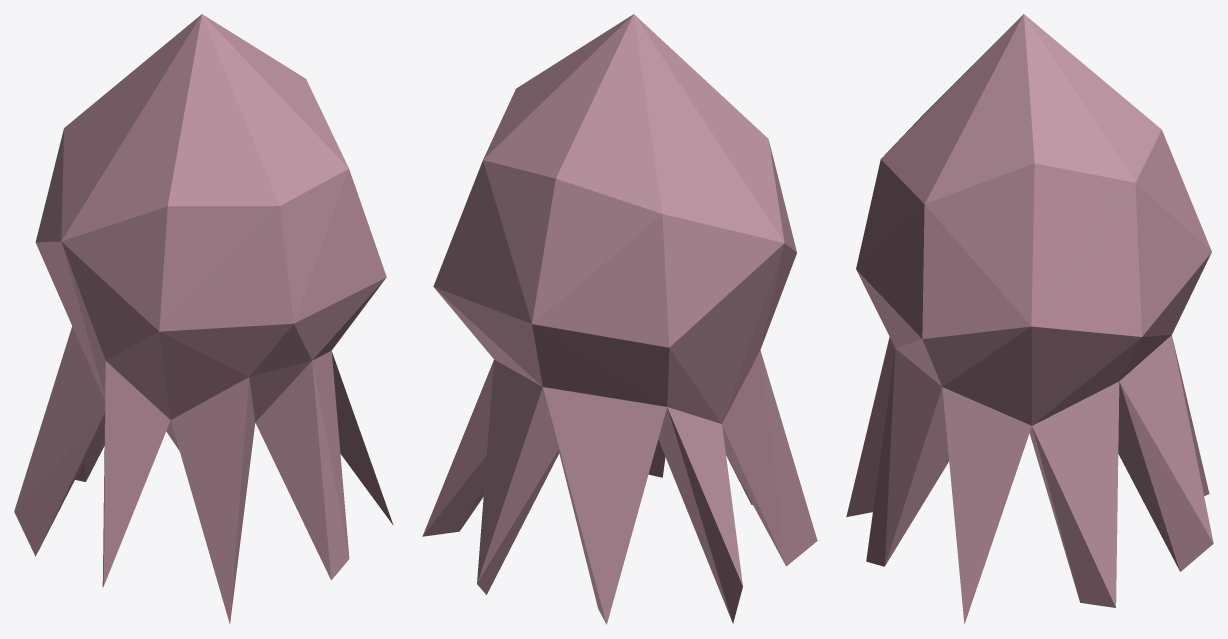
3 renders of one model, left to right at view 1: azimuth 30°, elevation 25°; view 2: azimuth 150°, elevation 25°; view 3: azimuth 270°, elevation 25°, orthographic. The views are drawn at different scales.
Visible parts, largest first — view 1: part0; view 2: part0; view 3: part0.
Boxes of the visible parts, x1=… form: part0: x1=14, y1=14, x2=393, y2=623; part0: x1=422, y1=14, x2=817, y2=624; part0: x1=846, y1=14, x2=1213, y2=624.
Size of the model in its own units: 4.21 by 6.96 by 4.31.
